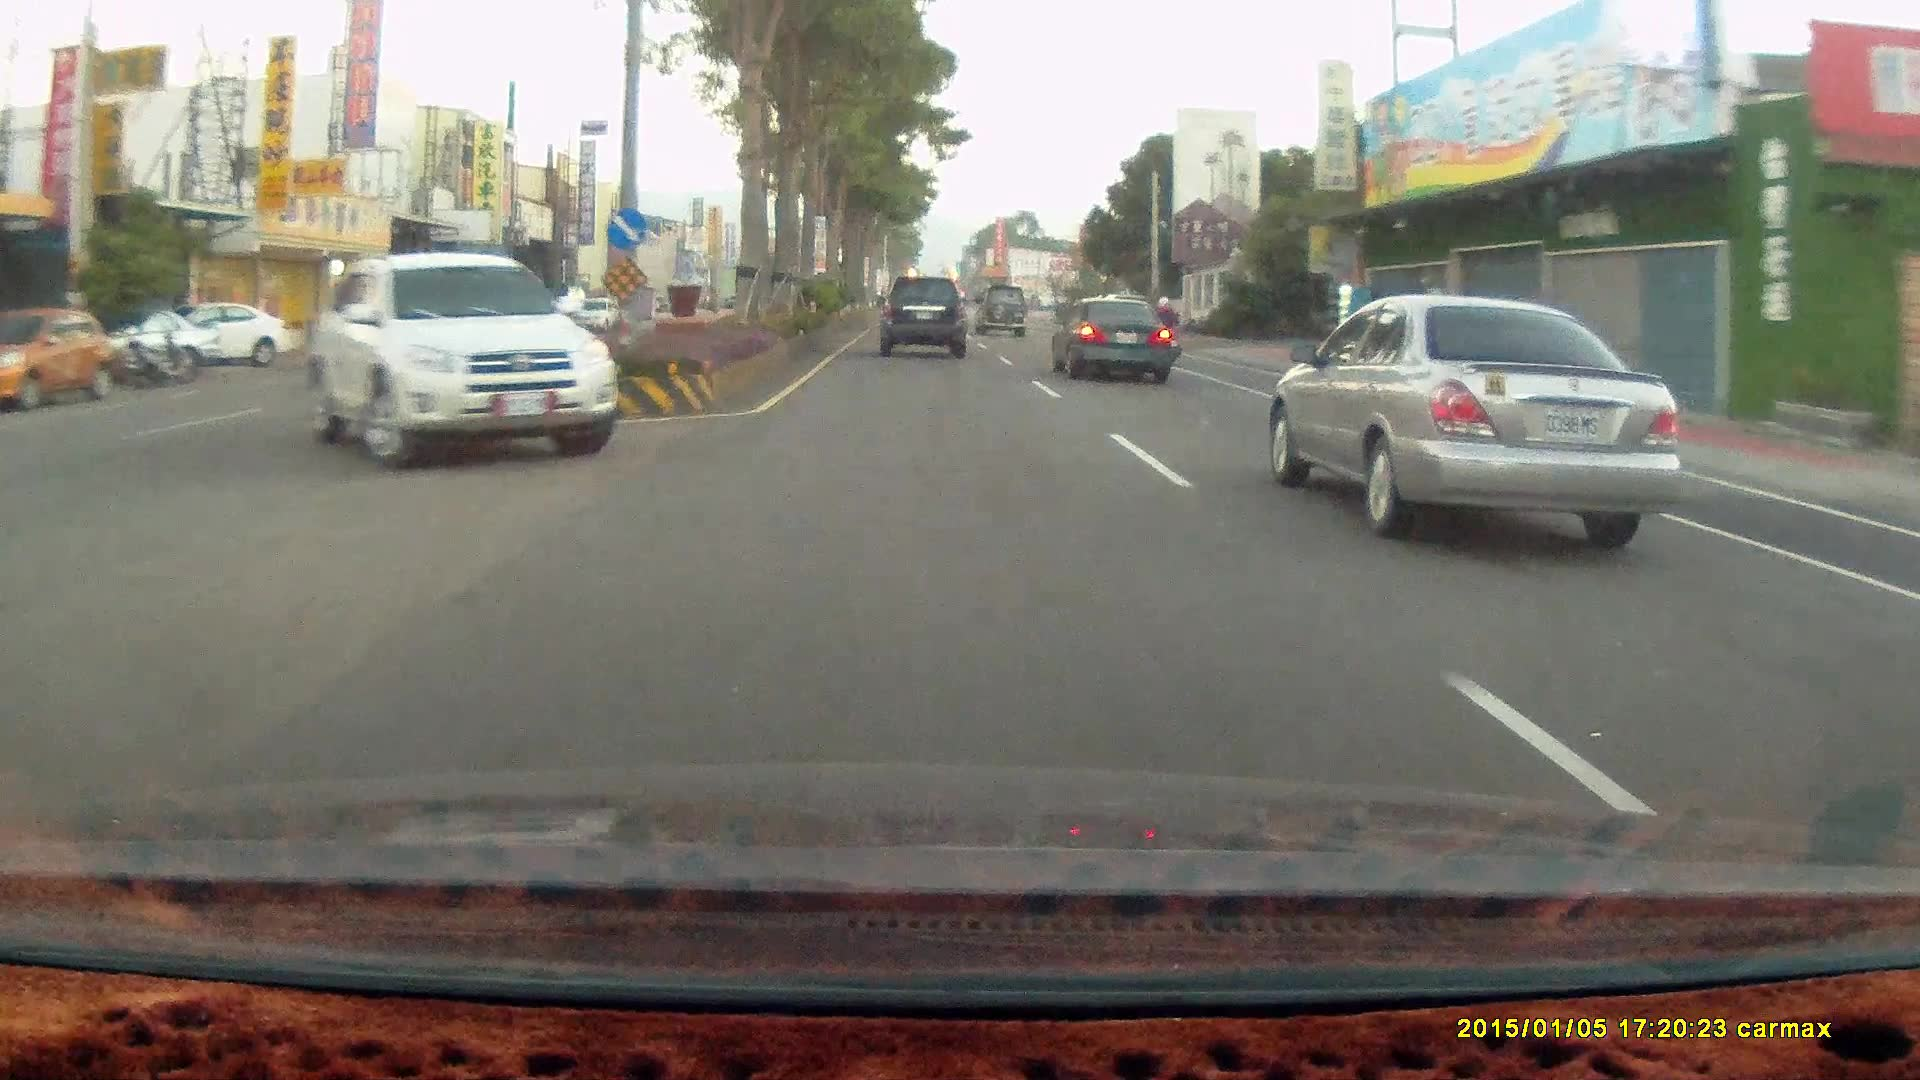rider: (1144, 292, 1183, 370)
vehicle: (1273, 287, 1688, 537), (306, 249, 623, 474), (313, 250, 608, 482), (0, 305, 124, 409), (1, 310, 126, 410), (1049, 292, 1172, 382), (1056, 298, 1179, 384), (139, 297, 291, 364), (150, 301, 298, 369), (882, 276, 971, 361), (878, 273, 966, 354), (974, 284, 1031, 343), (972, 281, 1027, 335)
